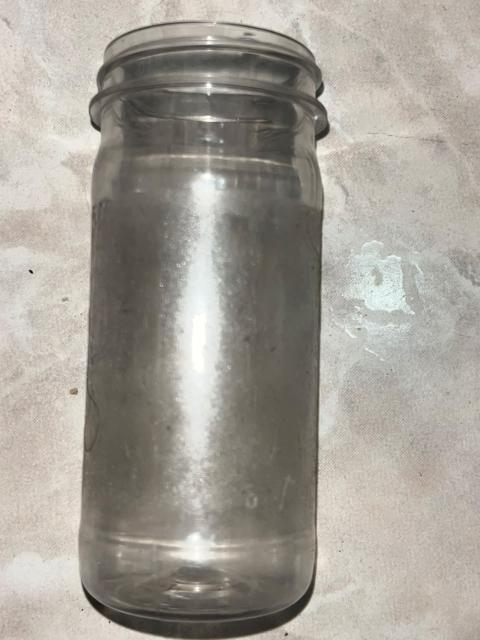PET: (60, 15, 373, 640)
